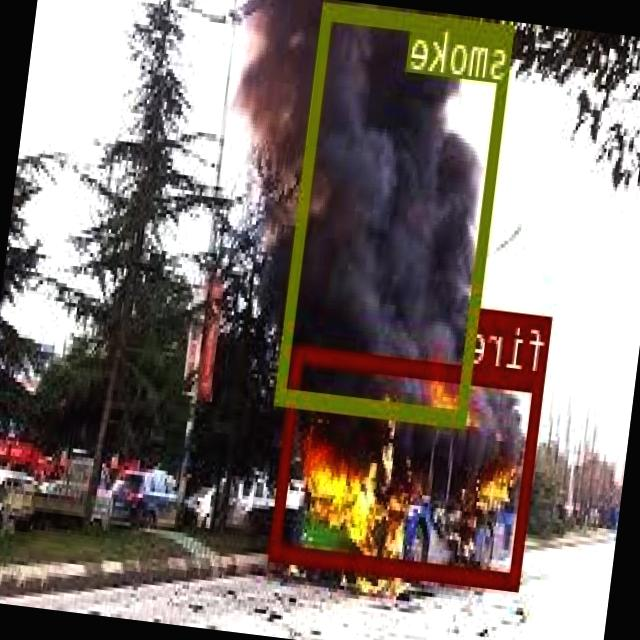fire: (272, 342, 546, 587)
smoke: (276, 0, 517, 425)
